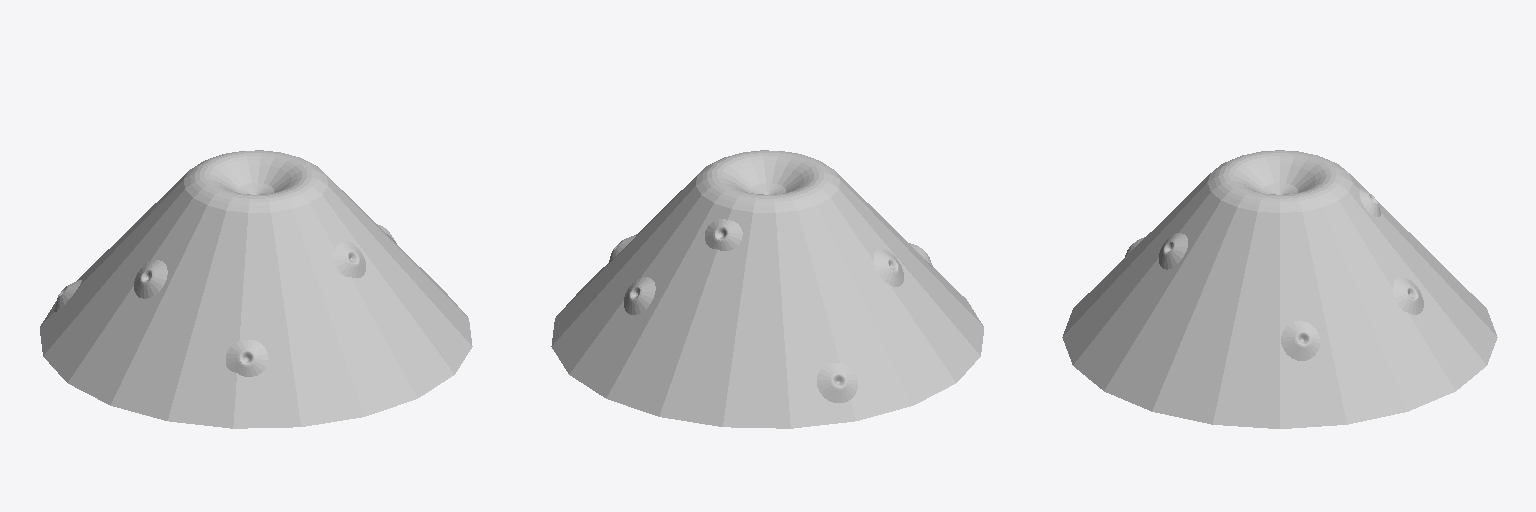
The model's file is AntHill.obj.
The picture shows the model from 3 angles: view 1: azimuth 30°, elevation 25°; view 2: azimuth 150°, elevation 25°; view 3: azimuth 270°, elevation 25°; orthographic projection.
Parts seen in each view (by area): view 1: pCone1, pCone6, pCone5, pCone4; view 2: pCone1, pCone7, pCone2, pCone8, pCone5; view 3: pCone1, pCone3, pCone8, pCone4.
Part boxes in pixels (bbox=[...]): pCone1: bbox=[40, 150, 472, 428]; pCone6: bbox=[226, 340, 268, 376]; pCone5: bbox=[134, 260, 167, 298]; pCone4: bbox=[332, 241, 365, 277]; pCone1: bbox=[551, 150, 983, 428]; pCone7: bbox=[817, 363, 857, 402]; pCone2: bbox=[705, 219, 742, 250]; pCone8: bbox=[624, 277, 655, 314]; pCone5: bbox=[874, 249, 903, 286]; pCone1: bbox=[1062, 150, 1497, 428]; pCone3: bbox=[1281, 321, 1319, 360]; pCone8: bbox=[1392, 277, 1423, 314]; pCone4: bbox=[1159, 233, 1187, 269].
Size of the model in its own units: 10.2 by 4.2 by 10.2.